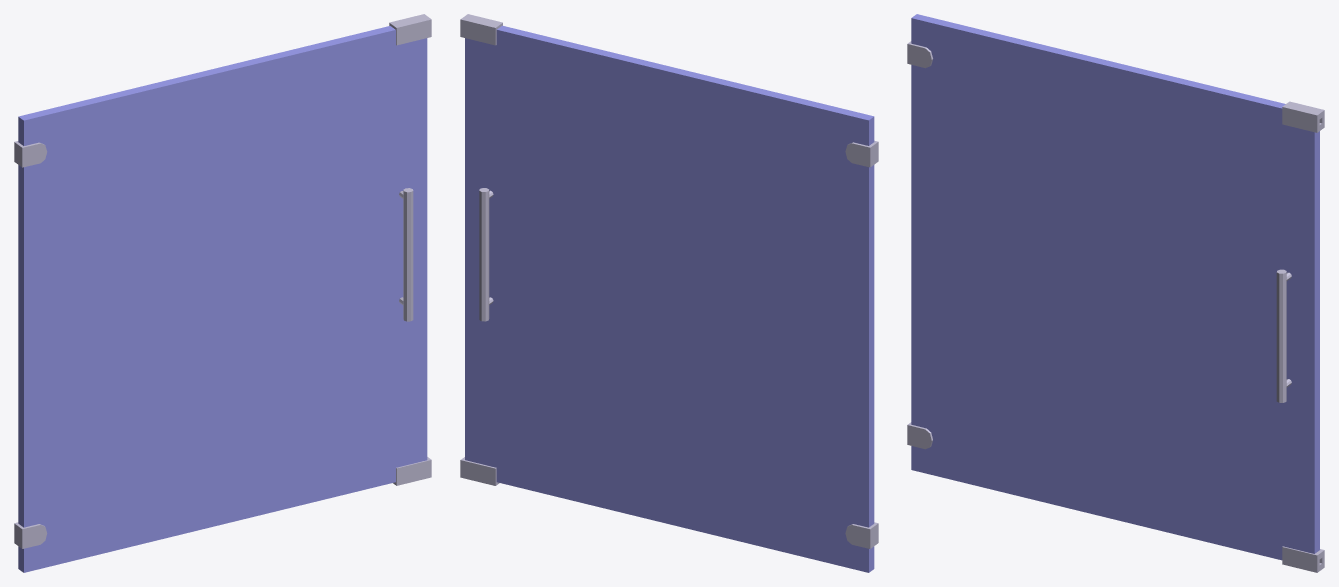
File: GlassDoor.fbx
The picture shows the model from 3 angles, left to right: view 1: azimuth 30°, elevation 25°; view 2: azimuth 150°, elevation 25°; view 3: azimuth 330°, elevation 25°; orthographic projection.
Parts seen in each view (by area): view 1: GlassDoor.R; view 2: GlassDoor.R; view 3: GlassDoor.R.
Boxes of the visible parts, x1,y1,x2,y2 form: GlassDoor.R: (14, 14, 431, 572); GlassDoor.R: (460, 14, 878, 572); GlassDoor.R: (907, 14, 1324, 572).
Size of the model in its own units: 299 by 319 by 30.84.
